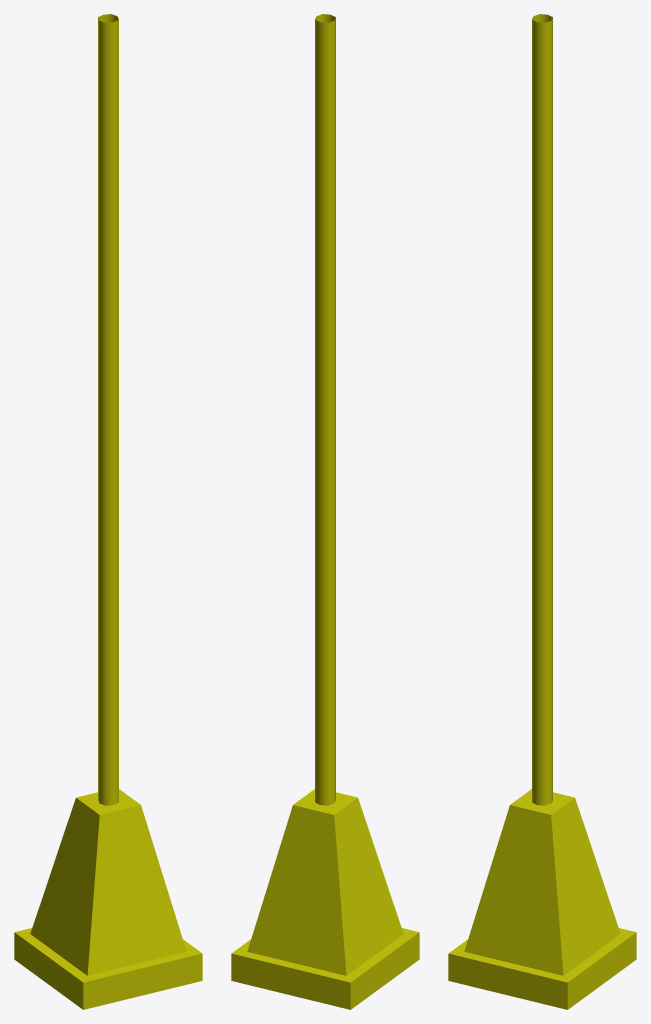
Rendered from 1pod.fbx.
The picture shows the model from 3 angles, left to right: view 1: azimuth 30°, elevation 25°; view 2: azimuth 150°, elevation 25°; view 3: azimuth 330°, elevation 25°; orthographic projection.
Visible parts, largest first — view 1: Mesh; view 2: Mesh; view 3: Mesh.
Part boxes in pixels (x1,y1,x2,y2): Mesh: [14, 14, 202, 1009]; Mesh: [231, 14, 419, 1009]; Mesh: [448, 14, 636, 1009].
Size of the model in its own units: 63.81 by 487 by 63.81.
